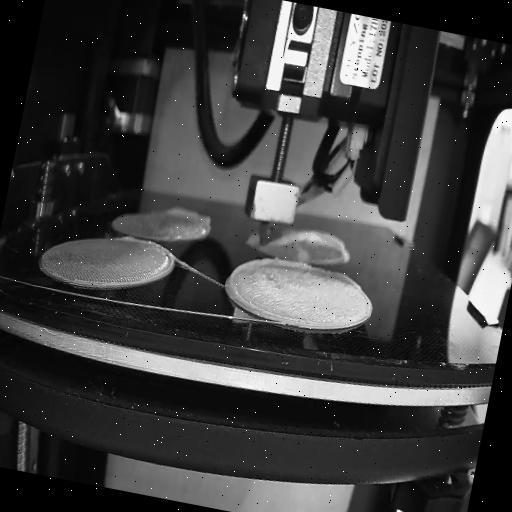over_extrusion: (222, 250, 312, 328), (270, 219, 354, 264), (164, 203, 216, 230), (324, 268, 366, 293), (113, 228, 138, 246)
